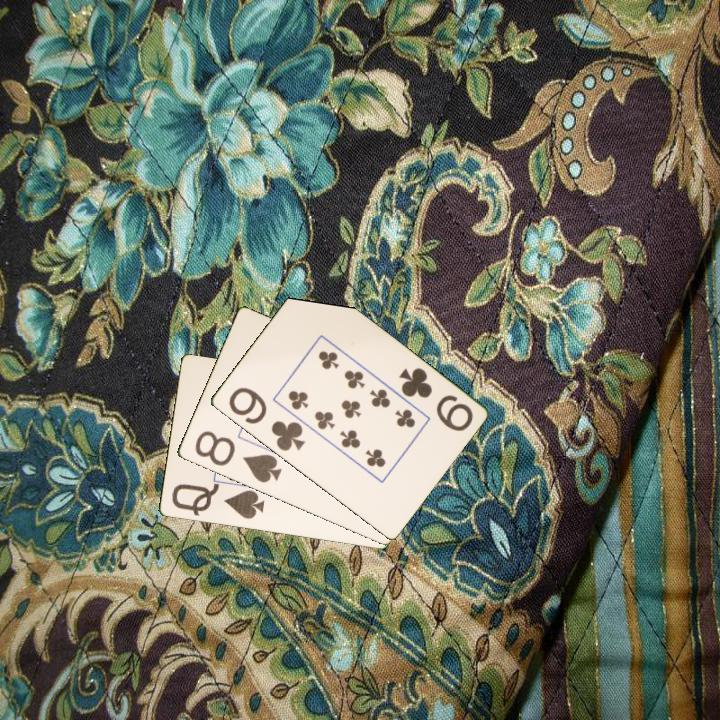8s: (191, 427, 284, 486)
9c: (225, 384, 308, 454), (395, 364, 476, 435)
Qs: (168, 480, 267, 522)
